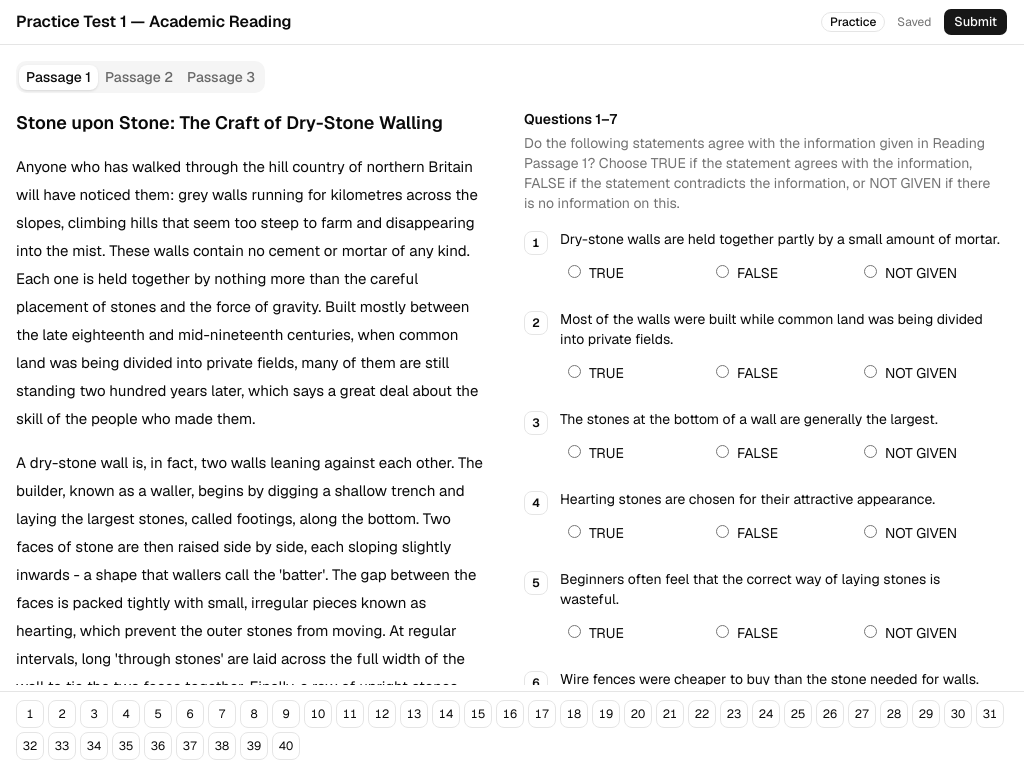
Test case: question nav switches to the passage that holds the question
The width and height of the screenshot is (1024, 768).
Expected: the heading "Stone upon Stone: The Craft of Dry-Stone Walling" is shown, [16, 109, 484, 137]
What coordinates should you click on to do the following:
click the button named "Go to question 14"
I would click on:
 (446, 714)
Its box is [432, 700, 460, 728].
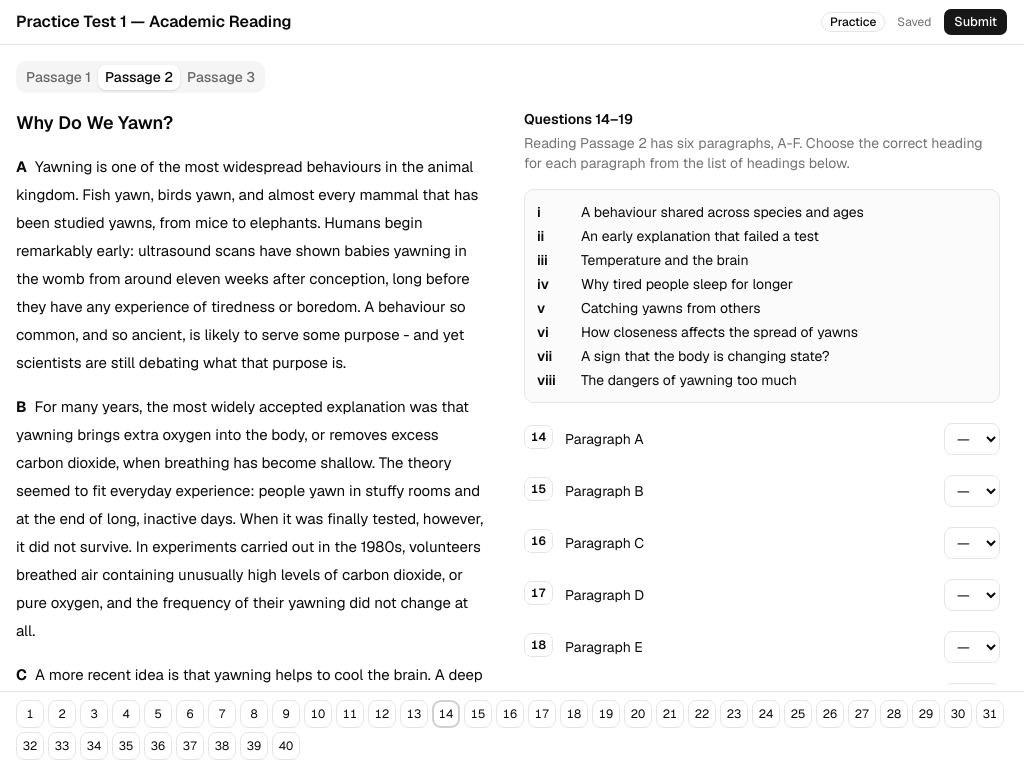
Expected: the dropdown named "Question 14" is shown, [944, 423, 1000, 455]
